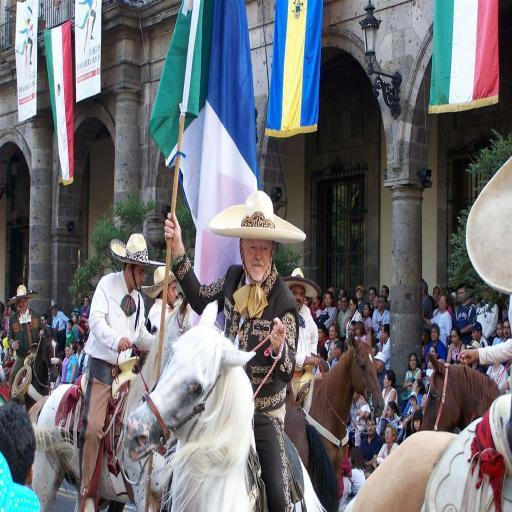horse: (124, 296, 328, 512), (30, 294, 194, 512), (293, 330, 386, 512), (341, 430, 512, 512), (418, 352, 506, 432), (284, 400, 338, 506), (17, 318, 60, 410)
